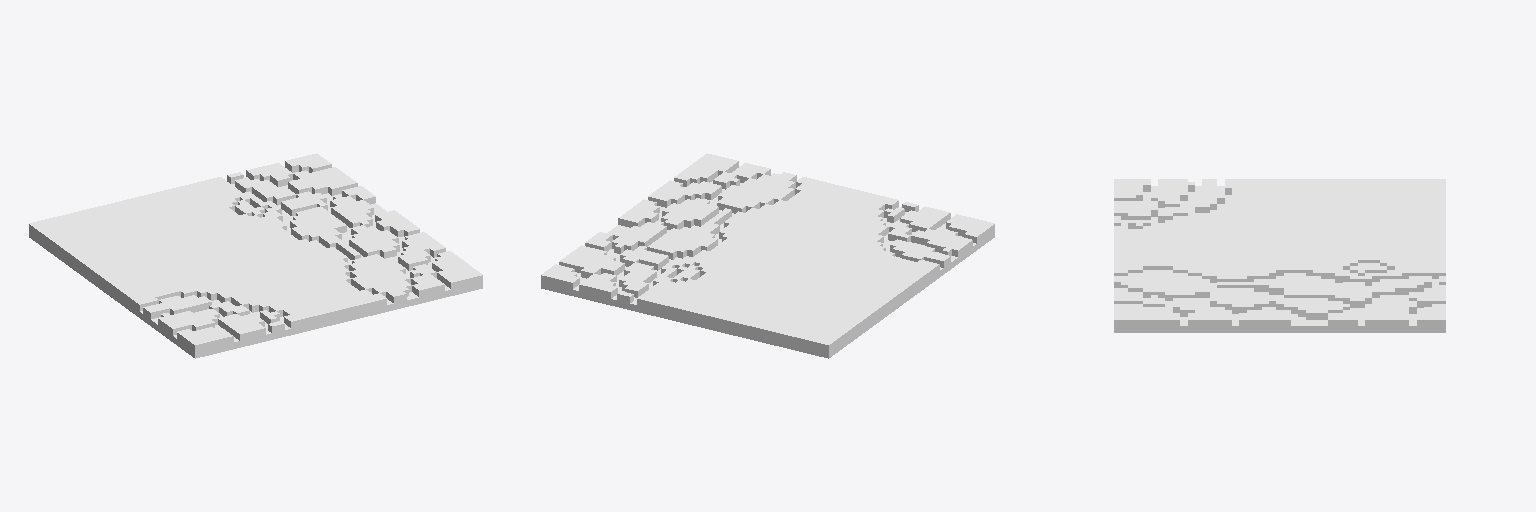
Rendered from ObsidianEdgeWithLittle.obj.
The picture shows the model from 3 angles: view 1: azimuth 30°, elevation 25°; view 2: azimuth 150°, elevation 25°; view 3: azimuth 270°, elevation 25°; orthographic projection.
Bounding box in the file's own units: 45 × 2 × 45.